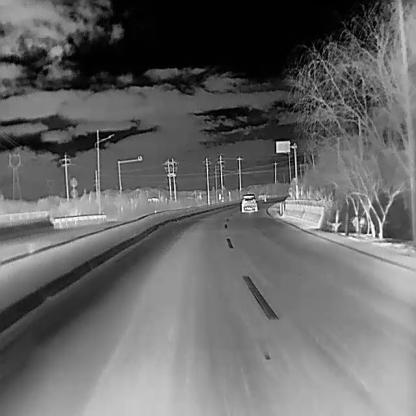car: (241, 194, 257, 212)
